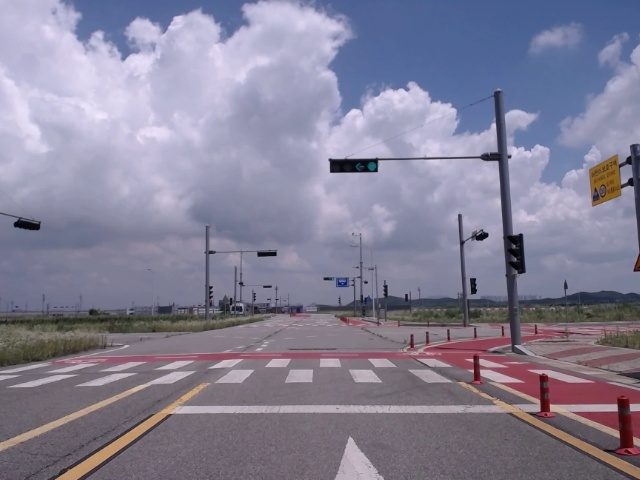all_green_4: (329, 159, 380, 174)
